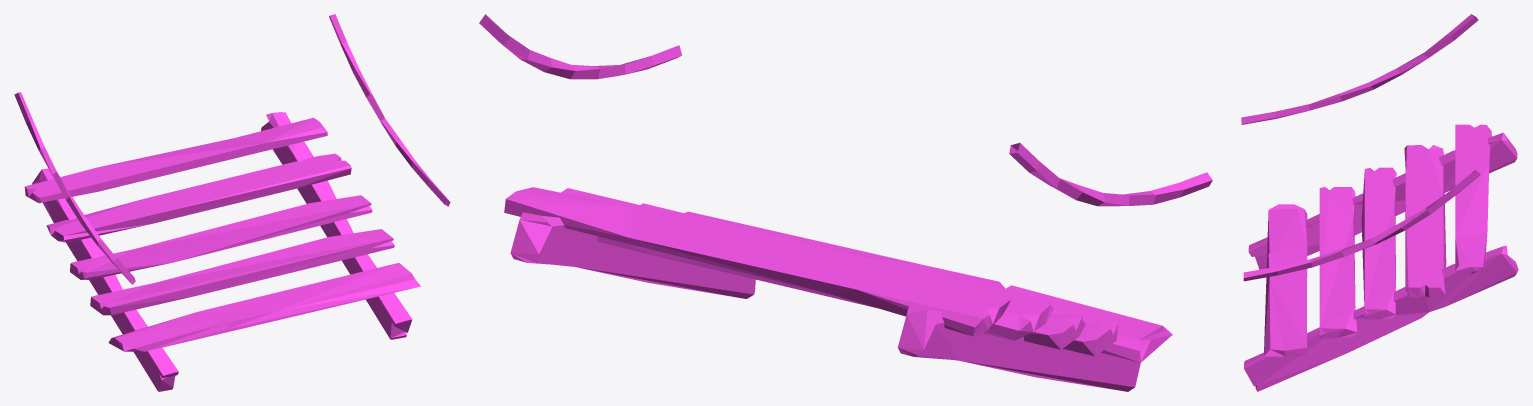
The model's file is SM_Pier_Rope_Stairs_Fantasy.fbx.
The picture shows the model from 3 angles, left to right: view 1: azimuth 30°, elevation 25°; view 2: azimuth 150°, elevation 25°; view 3: azimuth 270°, elevation 25°; orthographic projection. The views are drawn at different scales.
Visible parts, largest first — view 1: SM_Pier_Rope_Stairs_Fantasy; view 2: SM_Pier_Rope_Stairs_Fantasy; view 3: SM_Pier_Rope_Stairs_Fantasy.
Part boxes in pixels (bbox=[...]): SM_Pier_Rope_Stairs_Fantasy: bbox=[14, 14, 450, 391]; SM_Pier_Rope_Stairs_Fantasy: bbox=[479, 14, 1212, 391]; SM_Pier_Rope_Stairs_Fantasy: bbox=[1241, 14, 1518, 391].
Bounding box in the file's own units: 3.33 × 2.33 × 2.46.
